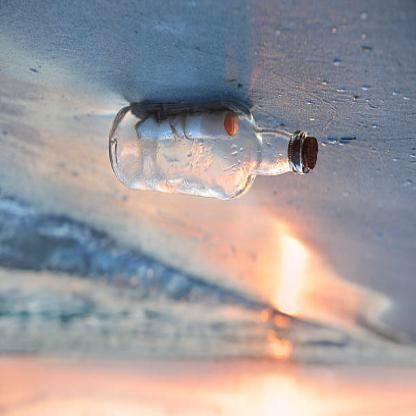Glass: (105, 94, 321, 203)
